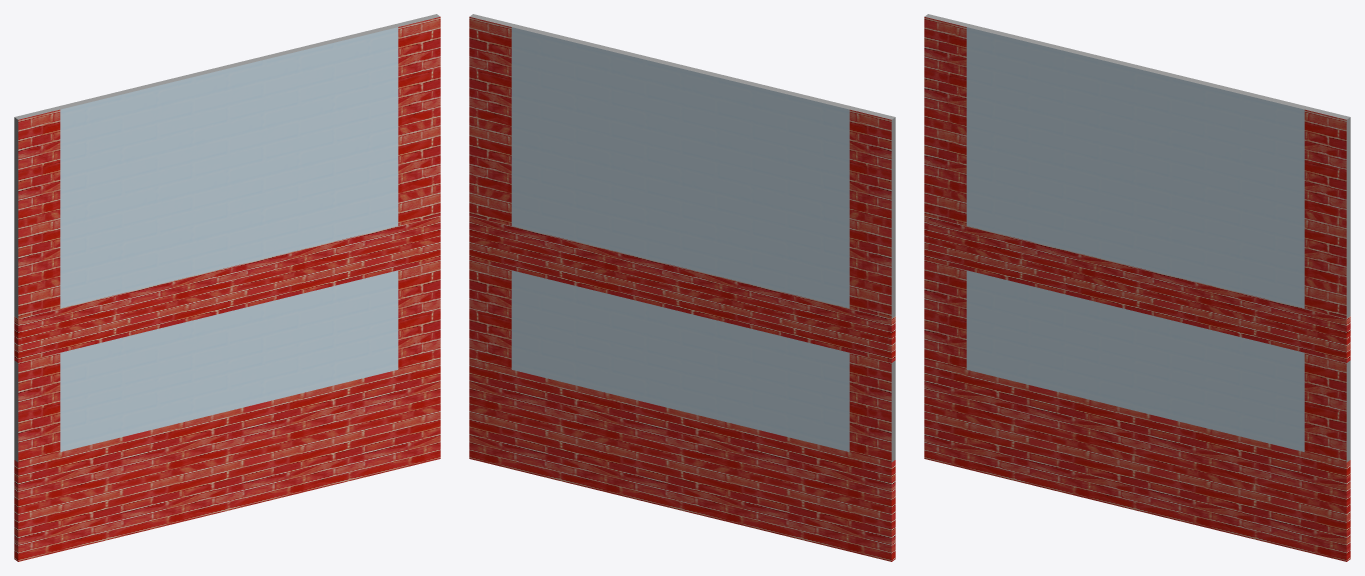
File: wall.fbx
3 views of the same model, side by side, from view 1: azimuth 30°, elevation 25°; view 2: azimuth 150°, elevation 25°; view 3: azimuth 330°, elevation 25° (orthographic).
Parts seen in each view (by area): view 1: pCube35; view 2: pCube35; view 3: pCube35.
Boxes of the visible parts, x1,y1,x2,y2 form: pCube35: [14, 14, 440, 561]; pCube35: [469, 14, 895, 561]; pCube35: [924, 14, 1350, 561].
Bounding box in the file's own units: 32 × 32 × 0.5.
3 materials, 2 textured.
